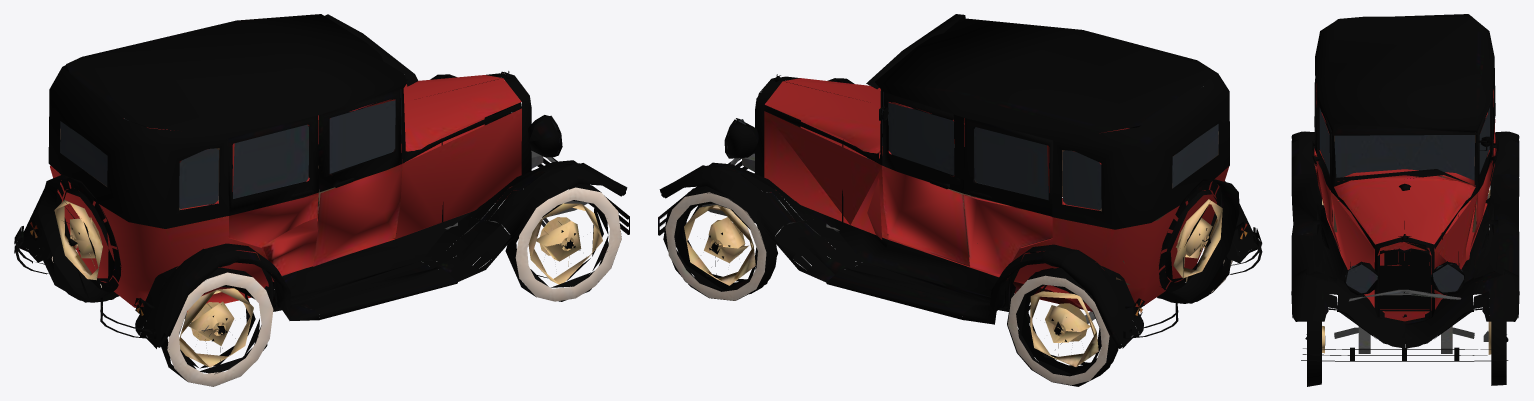
The model's file is car_model_a.glb.
The picture shows the model from 3 angles, left to right: view 1: azimuth 30°, elevation 25°; view 2: azimuth 150°, elevation 25°; view 3: azimuth 270°, elevation 25°; orthographic projection. The views are drawn at different scales.
Parts seen in each view (by area): view 1: CarModelA; view 2: CarModelA; view 3: CarModelA.
Boxes of the visible parts, <box> form: CarModelA: <box>14,14,629,386</box>; CarModelA: <box>658,14,1262,386</box>; CarModelA: <box>1291,14,1519,386</box>.
Size of the model in its own units: 4 by 1.96 by 1.94.
Materials: 1 (1 with a texture image).
